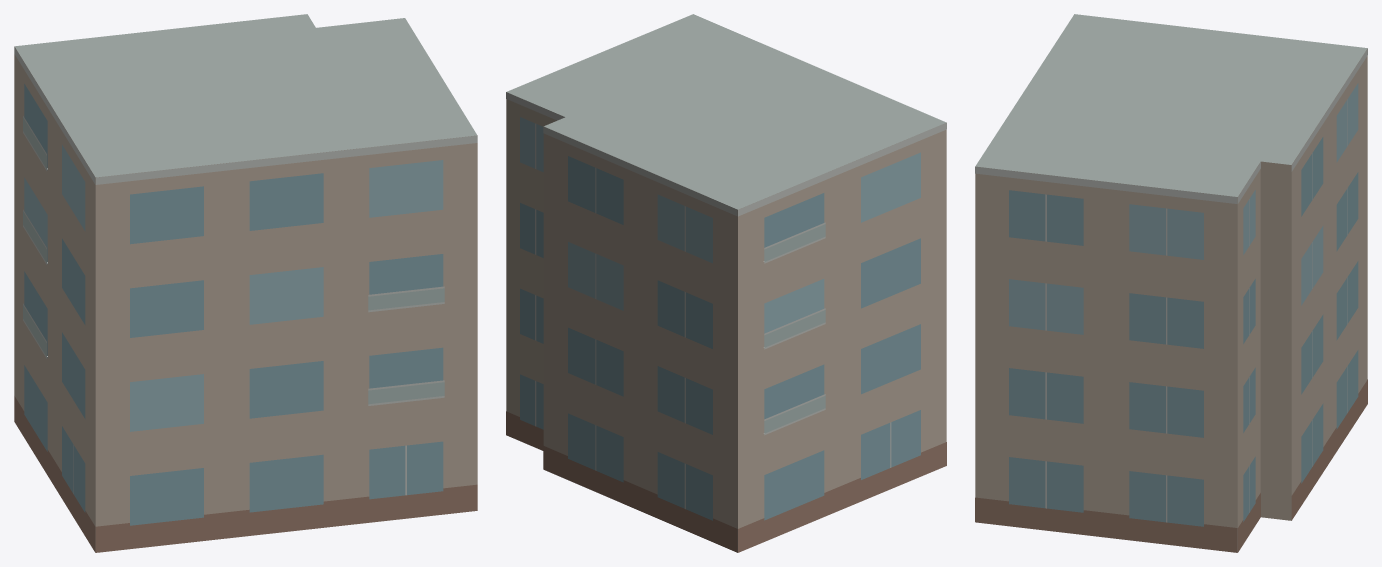
File: residential-afa596dc-c3a0-40cc-958f-a552577869c4.glb
3 views of the same model, side by side, from view 1: azimuth 30°, elevation 25°; view 2: azimuth 150°, elevation 25°; view 3: azimuth 270°, elevation 25° (orthographic). The views are drawn at different scales.
Parts seen in each view (by area): view 1: residential-afa596dc-c3a0-40cc-958f-a552577869c4.tmp; view 2: residential-afa596dc-c3a0-40cc-958f-a552577869c4.tmp; view 3: residential-afa596dc-c3a0-40cc-958f-a552577869c4.tmp.
Part boxes in pixels (bbox=[...]): residential-afa596dc-c3a0-40cc-958f-a552577869c4.tmp: bbox=[14, 14, 477, 552]; residential-afa596dc-c3a0-40cc-958f-a552577869c4.tmp: bbox=[506, 14, 946, 552]; residential-afa596dc-c3a0-40cc-958f-a552577869c4.tmp: bbox=[975, 14, 1367, 552].
Size of the model in its own units: 13.47 by 12.2 by 12.21.
